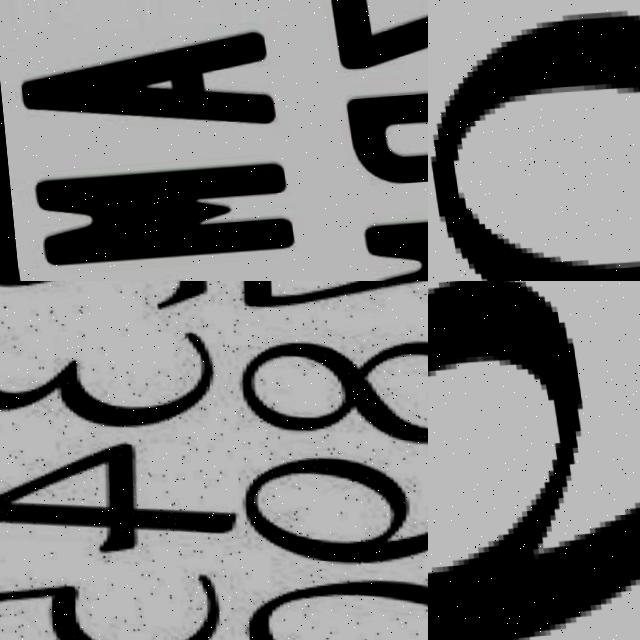0: (221, 557, 428, 640)
2: (0, 281, 223, 332)
3: (0, 301, 221, 451)
4: (0, 413, 239, 581)
5: (0, 544, 220, 640)
7: (221, 281, 428, 343)
8: (217, 315, 428, 467)
9: (428, 281, 640, 640), (428, 0, 640, 281), (215, 435, 428, 590)
A: (6, 28, 272, 144)
D: (339, 83, 428, 195)
M: (23, 163, 289, 268)
Z: (326, 0, 428, 71)
